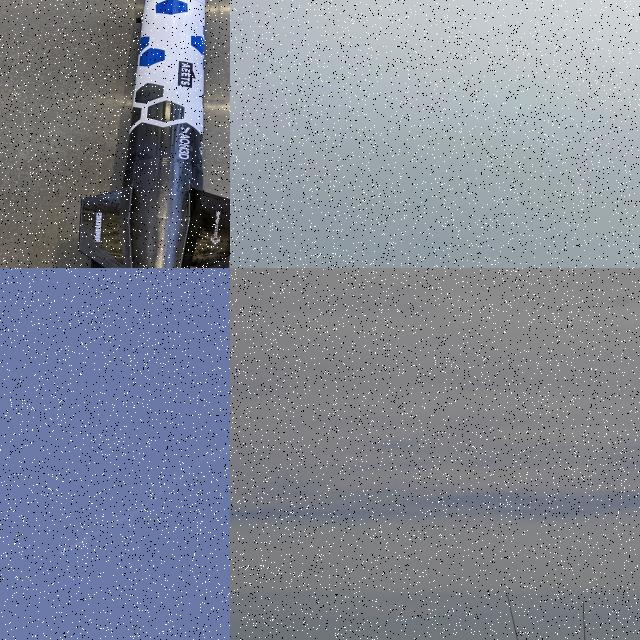Rocket: (77, 0, 230, 268), (60, 549, 65, 555)
